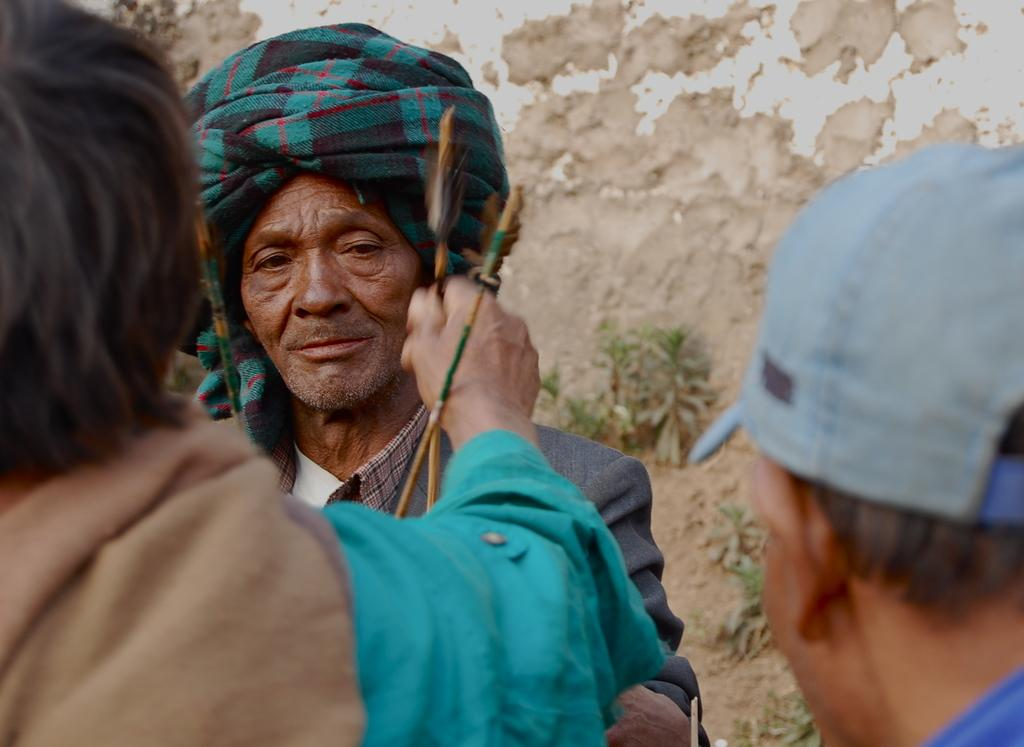Hat: (688, 141, 1023, 523)
